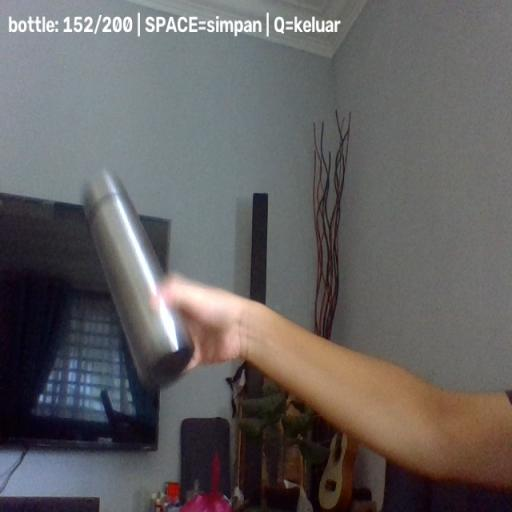Bottle: (82, 170, 195, 390)
